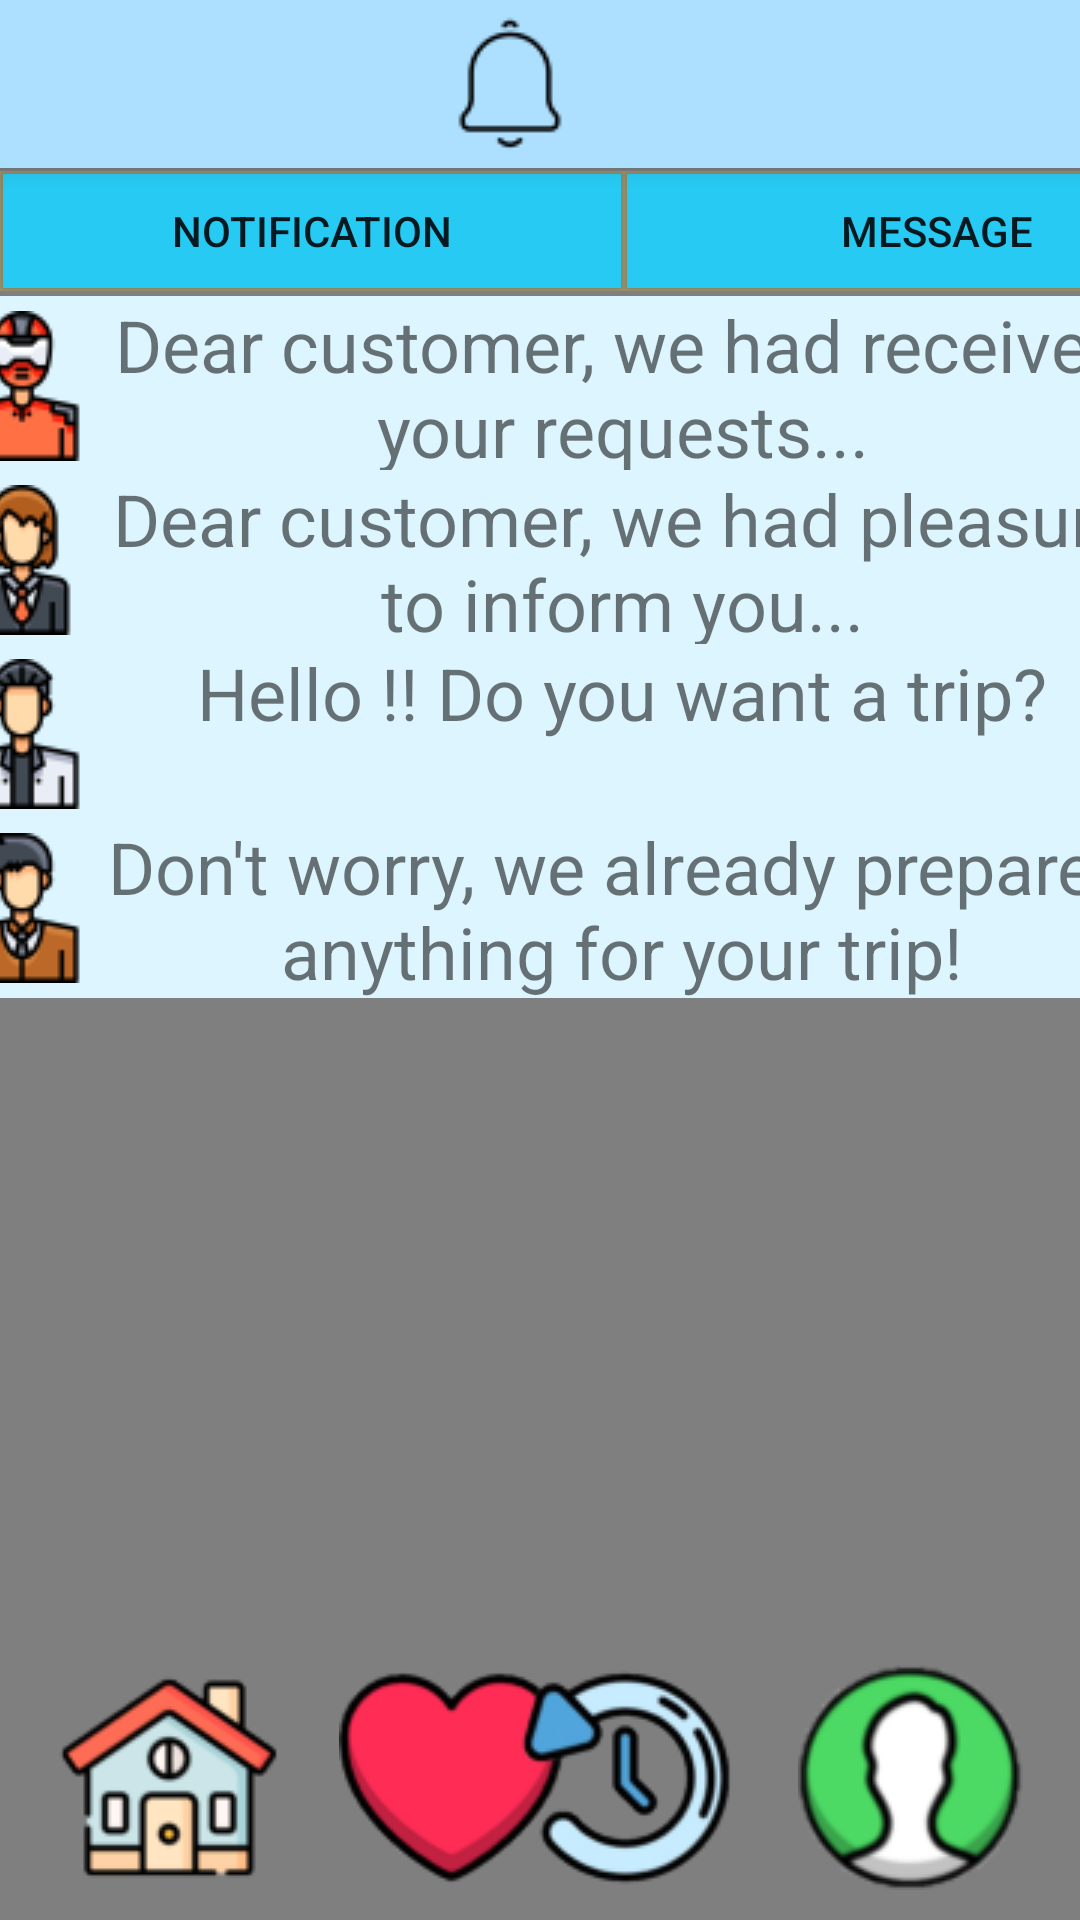

Where to tap for icons on this 1080×1920 app screen, as [x,y]:
heart: [451,1777]
history: [623,1777]
home: [169,1777]
